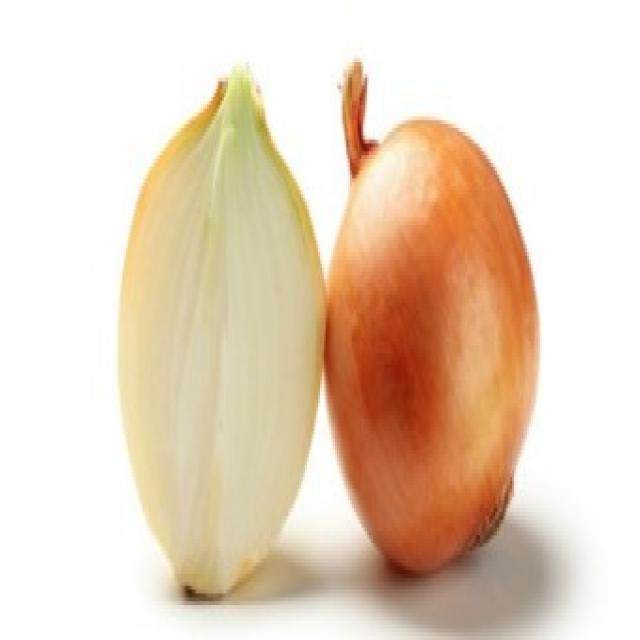onion: (308, 41, 546, 590), (113, 66, 327, 598)
